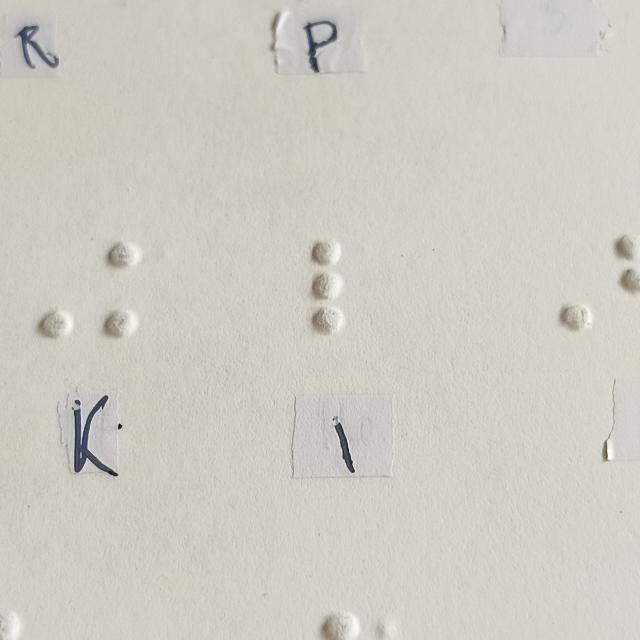capital_sign: (4, 243, 71, 338)
letter_K: (102, 243, 176, 338)
letter_l: (312, 242, 383, 335)
